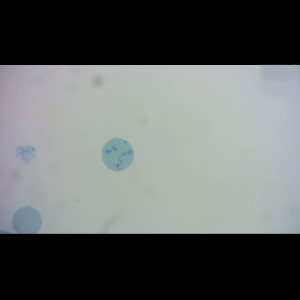aggregate reticulocyte: (101, 137, 135, 172)
erythrocyte: (10, 205, 43, 234)
